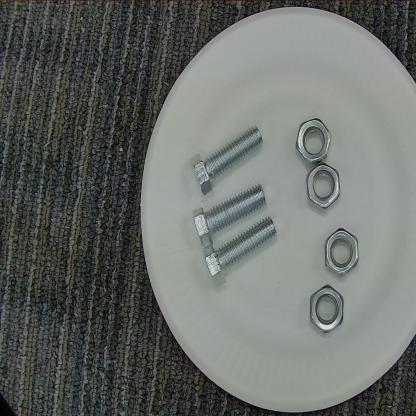FOD: (203, 216, 281, 289), (191, 124, 266, 197), (191, 184, 268, 250), (299, 161, 346, 215), (290, 115, 335, 166), (322, 225, 362, 282), (307, 282, 347, 338)
